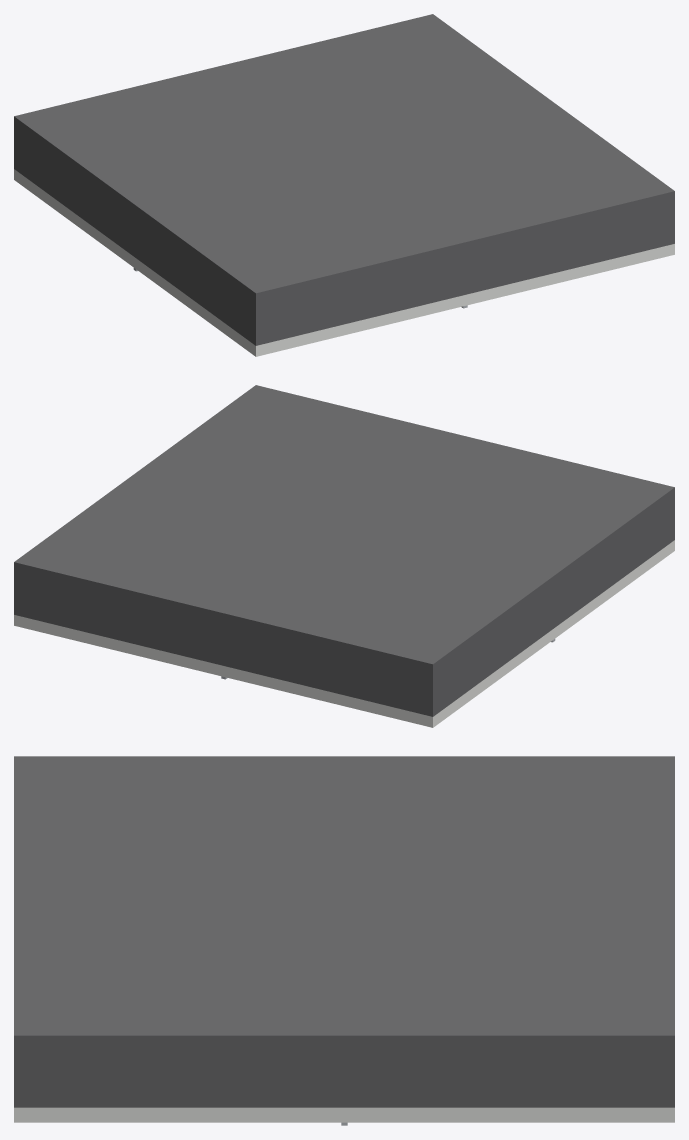
The model's file is Canopy_Roof_Straight_4m.glb.
3 views of the same model, one above another, from view 1: azimuth 30°, elevation 25°; view 2: azimuth 150°, elevation 25°; view 3: azimuth 270°, elevation 25° (orthographic). The views are drawn at different scales.
Parts seen in each view (by area): view 1: Canopy_Roof_Straight_4m; view 2: Canopy_Roof_Straight_4m; view 3: Canopy_Roof_Straight_4m.
Boxes of the visible parts, x1,y1,x2,y2 form: Canopy_Roof_Straight_4m: (14,14,674,356); Canopy_Roof_Straight_4m: (14,385,674,727); Canopy_Roof_Straight_4m: (14,756,674,1125).
Size of the model in its own units: 4 by 0.62 by 4.
Materials: 1 (1 with a texture image).
